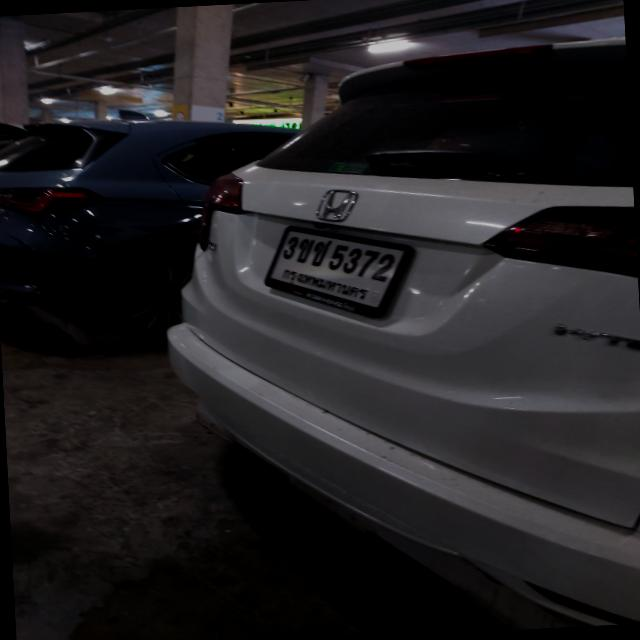license_plate: (269, 229, 405, 307)
